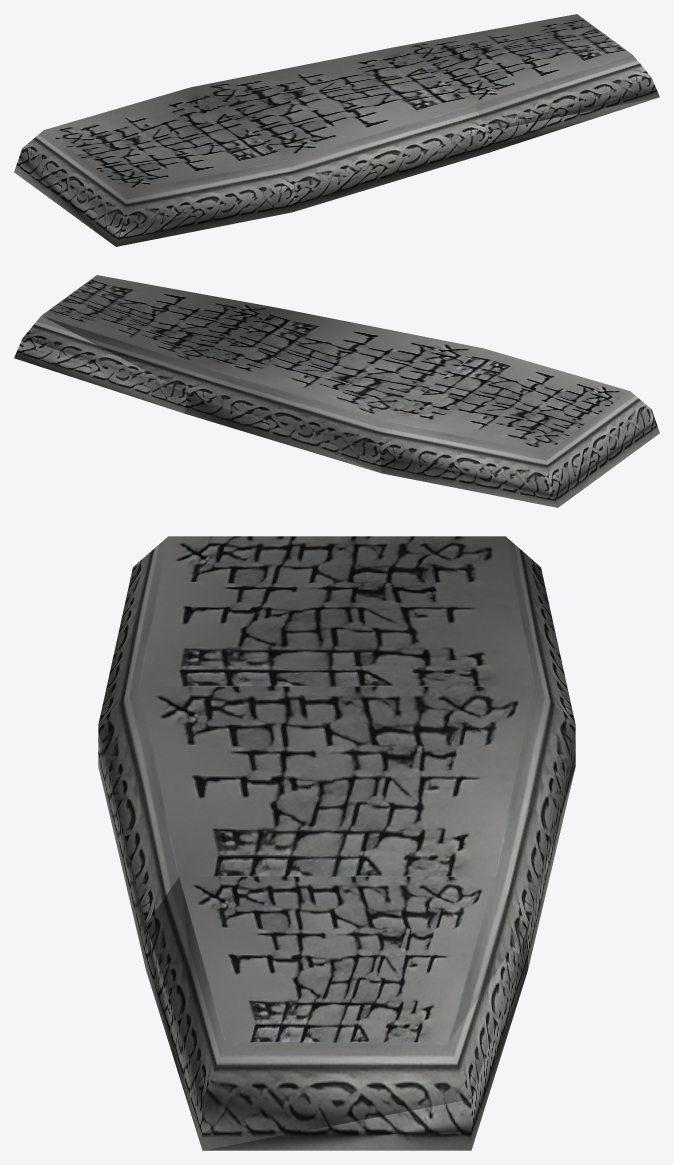
Rendered from mm9_deco_coffinfancy_lid.glb.
3 views of the same model, one above another, from view 1: azimuth 30°, elevation 25°; view 2: azimuth 150°, elevation 25°; view 3: azimuth 270°, elevation 25° (orthographic). The views are drawn at different scales.
Visible parts, largest first — view 1: Coffinfancy; view 2: Coffinfancy; view 3: Coffinfancy.
Boxes of the visible parts, x1=… form: Coffinfancy: x1=14, y1=14, x2=659, y2=246; Coffinfancy: x1=14, y1=275, x2=659, y2=507; Coffinfancy: x1=98, y1=536, x2=575, y2=1150.
Size of the model in its own units: 3.82 by 0.283 by 1.41.
Materials: 1 (1 with a texture image).
